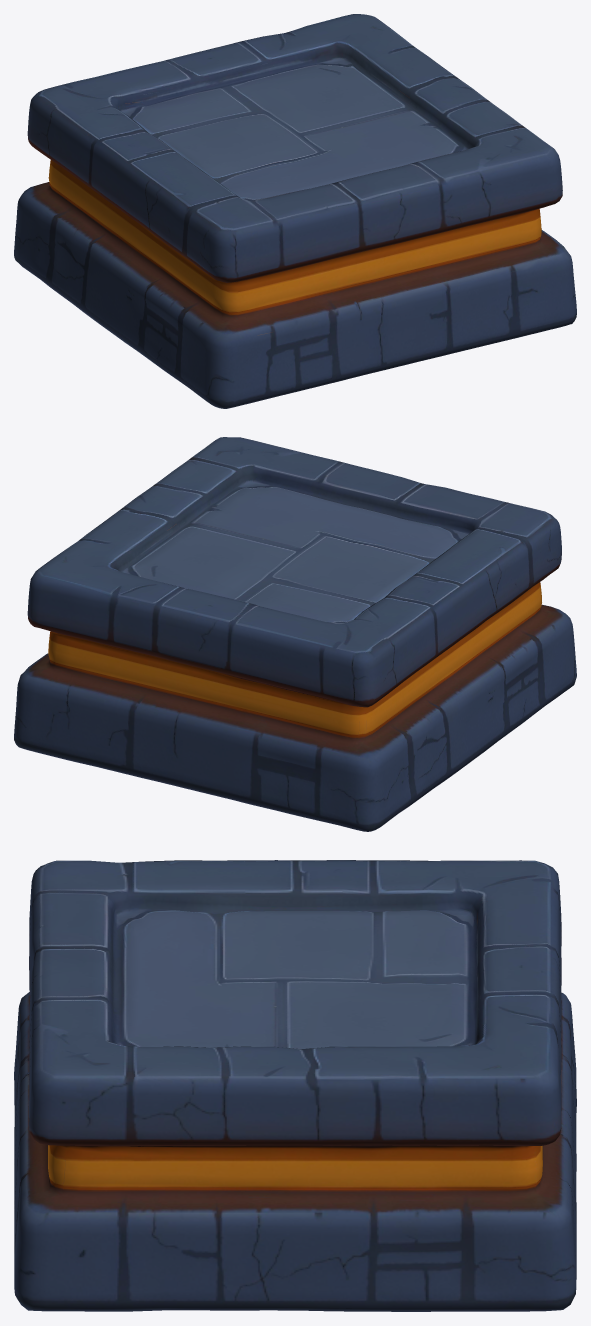
Rendered from plat_Square_ROCK.obj.
The picture shows the model from 3 angles, top to bottom: view 1: azimuth 30°, elevation 25°; view 2: azimuth 150°, elevation 25°; view 3: azimuth 270°, elevation 25°; orthographic projection. The views are drawn at different scales.
Parts seen in each view (by area): view 1: tripo_node_e1db4682-d852-485f-a3a0-e07f552af7e3; view 2: tripo_node_e1db4682-d852-485f-a3a0-e07f552af7e3; view 3: tripo_node_e1db4682-d852-485f-a3a0-e07f552af7e3.
Part boxes in pixels (left/top/right/bottom): tripo_node_e1db4682-d852-485f-a3a0-e07f552af7e3: left=14, top=14, right=576, bottom=408; tripo_node_e1db4682-d852-485f-a3a0-e07f552af7e3: left=14, top=437, right=576, bottom=831; tripo_node_e1db4682-d852-485f-a3a0-e07f552af7e3: left=14, top=860, right=576, bottom=1311.
Size of the model in its own units: 0.9982 by 0.4499 by 0.9997.
Materials: 1 (1 with a texture image).
